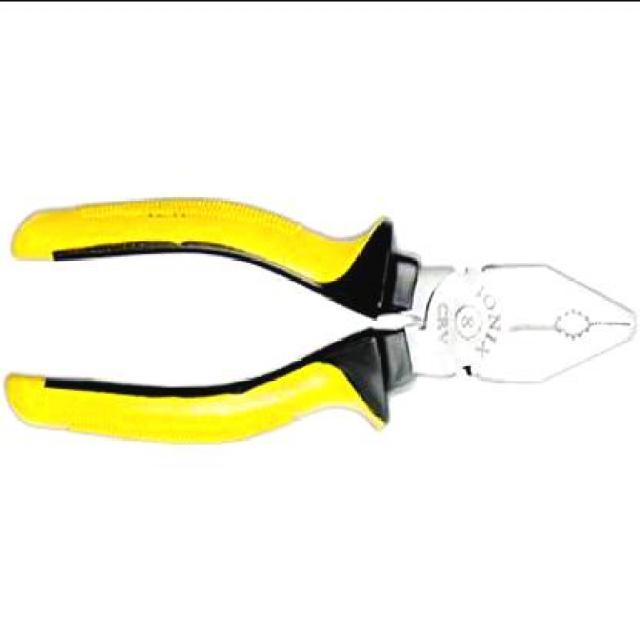pliers: (9, 192, 636, 436)
